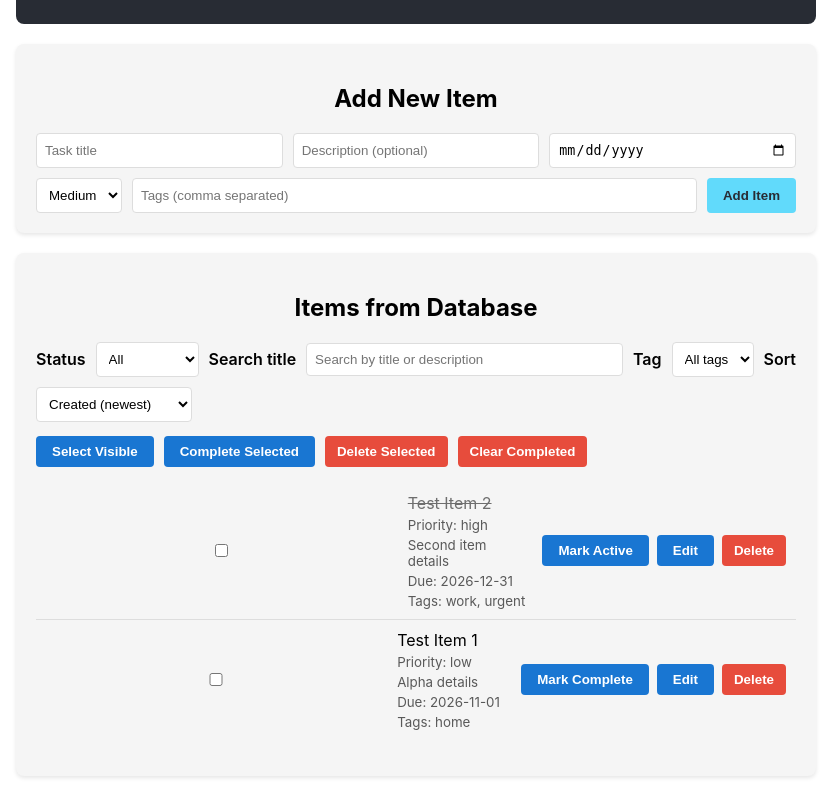
Scenario: App Component › deletes an item
(page scrolled)
expect the text "Test Item 1" is shown: met, box [397, 630, 478, 650]
Click the button "Delete" below "Test Item 1".
click(754, 680)  # box [722, 664, 786, 696]
(page scrolled)
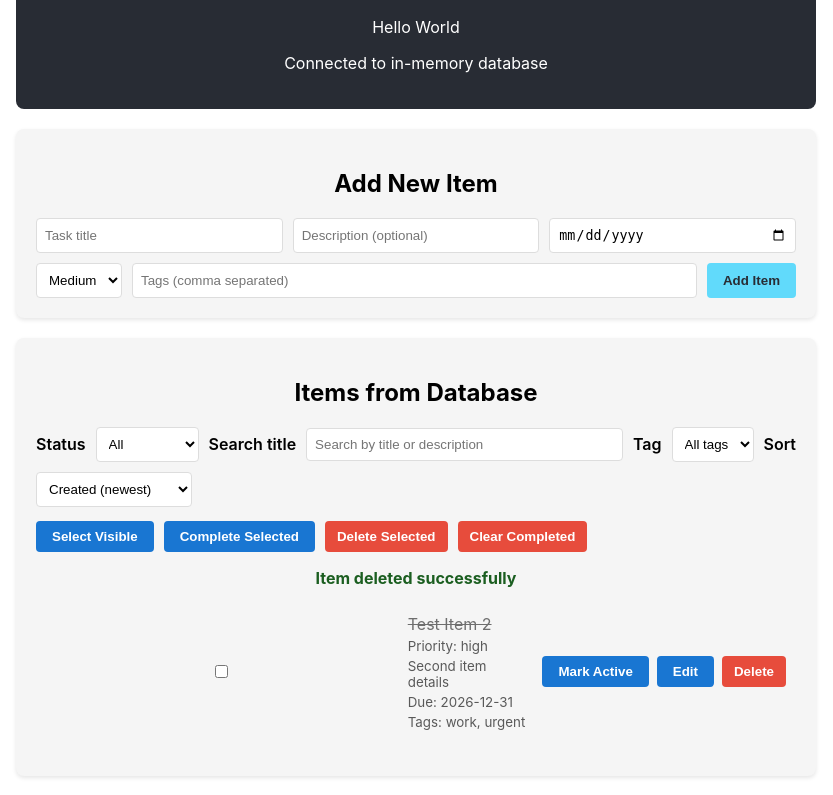
expect the text "Test Item 1" is gone: met
expect the text "Item deleted successfully" is shown: met, box [316, 568, 516, 588]
